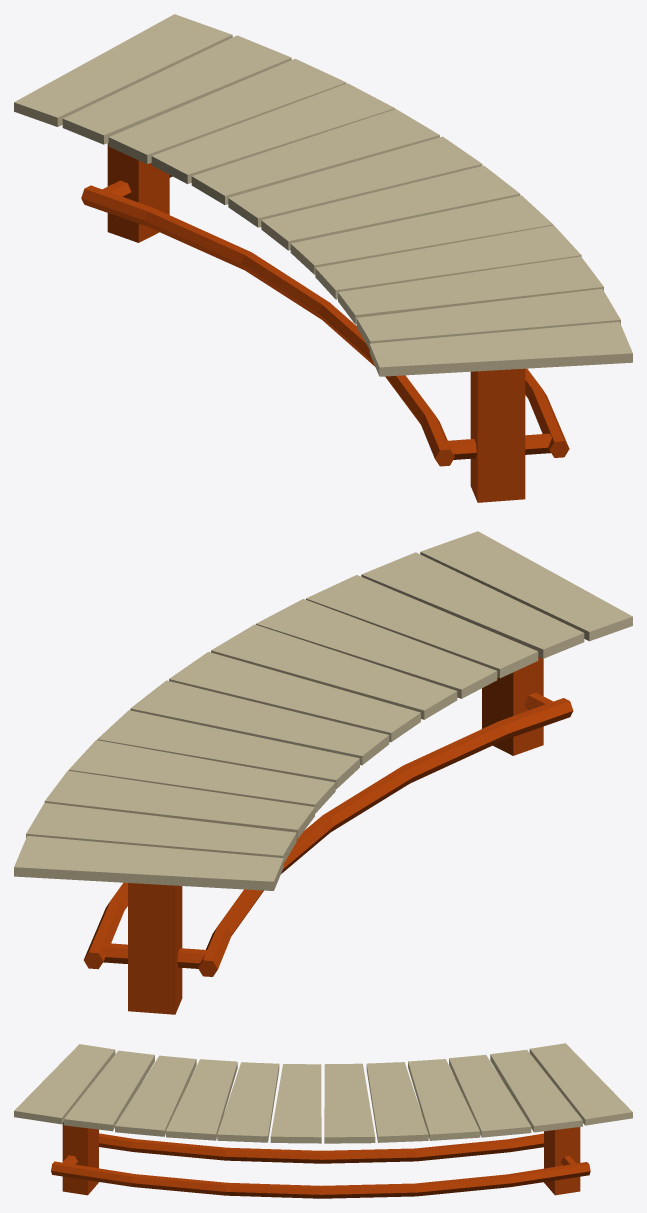
Rendered from SM_Bench_03.fbx.
3 renders of one model, top to bottom at view 1: azimuth 30°, elevation 25°; view 2: azimuth 150°, elevation 25°; view 3: azimuth 270°, elevation 25°, orthographic. The views are drawn at different scales.
Parts seen in each view (by area): view 1: SM_Bench_03; view 2: SM_Bench_03; view 3: SM_Bench_03.
Boxes of the visible parts, left/top/right/bottom form: SM_Bench_03: left=14, top=14, right=632, bottom=502; SM_Bench_03: left=14, top=531, right=632, bottom=1014; SM_Bench_03: left=14, top=1043, right=632, bottom=1198.
Bounding box in the file's own units: 91.2 × 46.93 × 253.
Materials: 1 (1 with a texture image).
